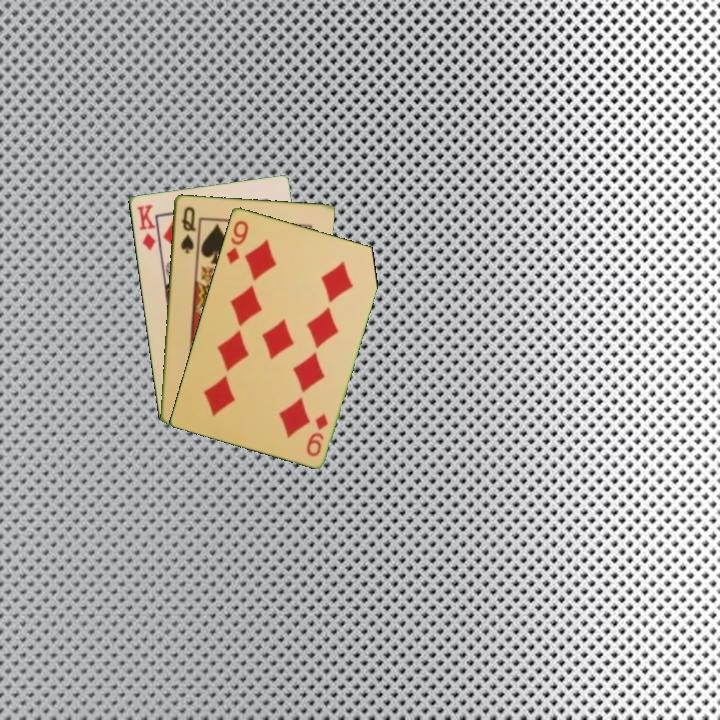9d: (222, 216, 251, 267), (302, 410, 331, 459)
Kd: (133, 201, 158, 253)
Qs: (177, 202, 198, 256)
